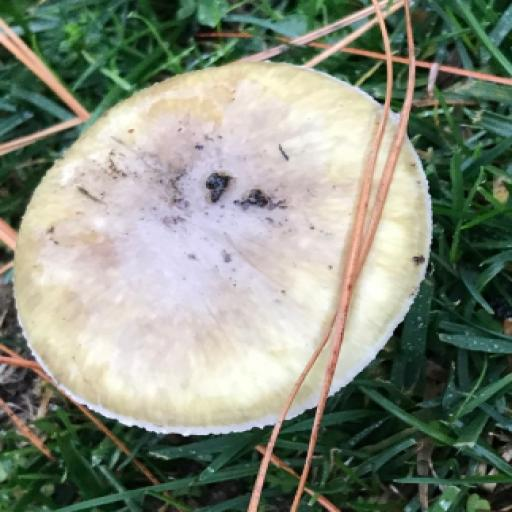Death Cap: (2, 39, 452, 455)
